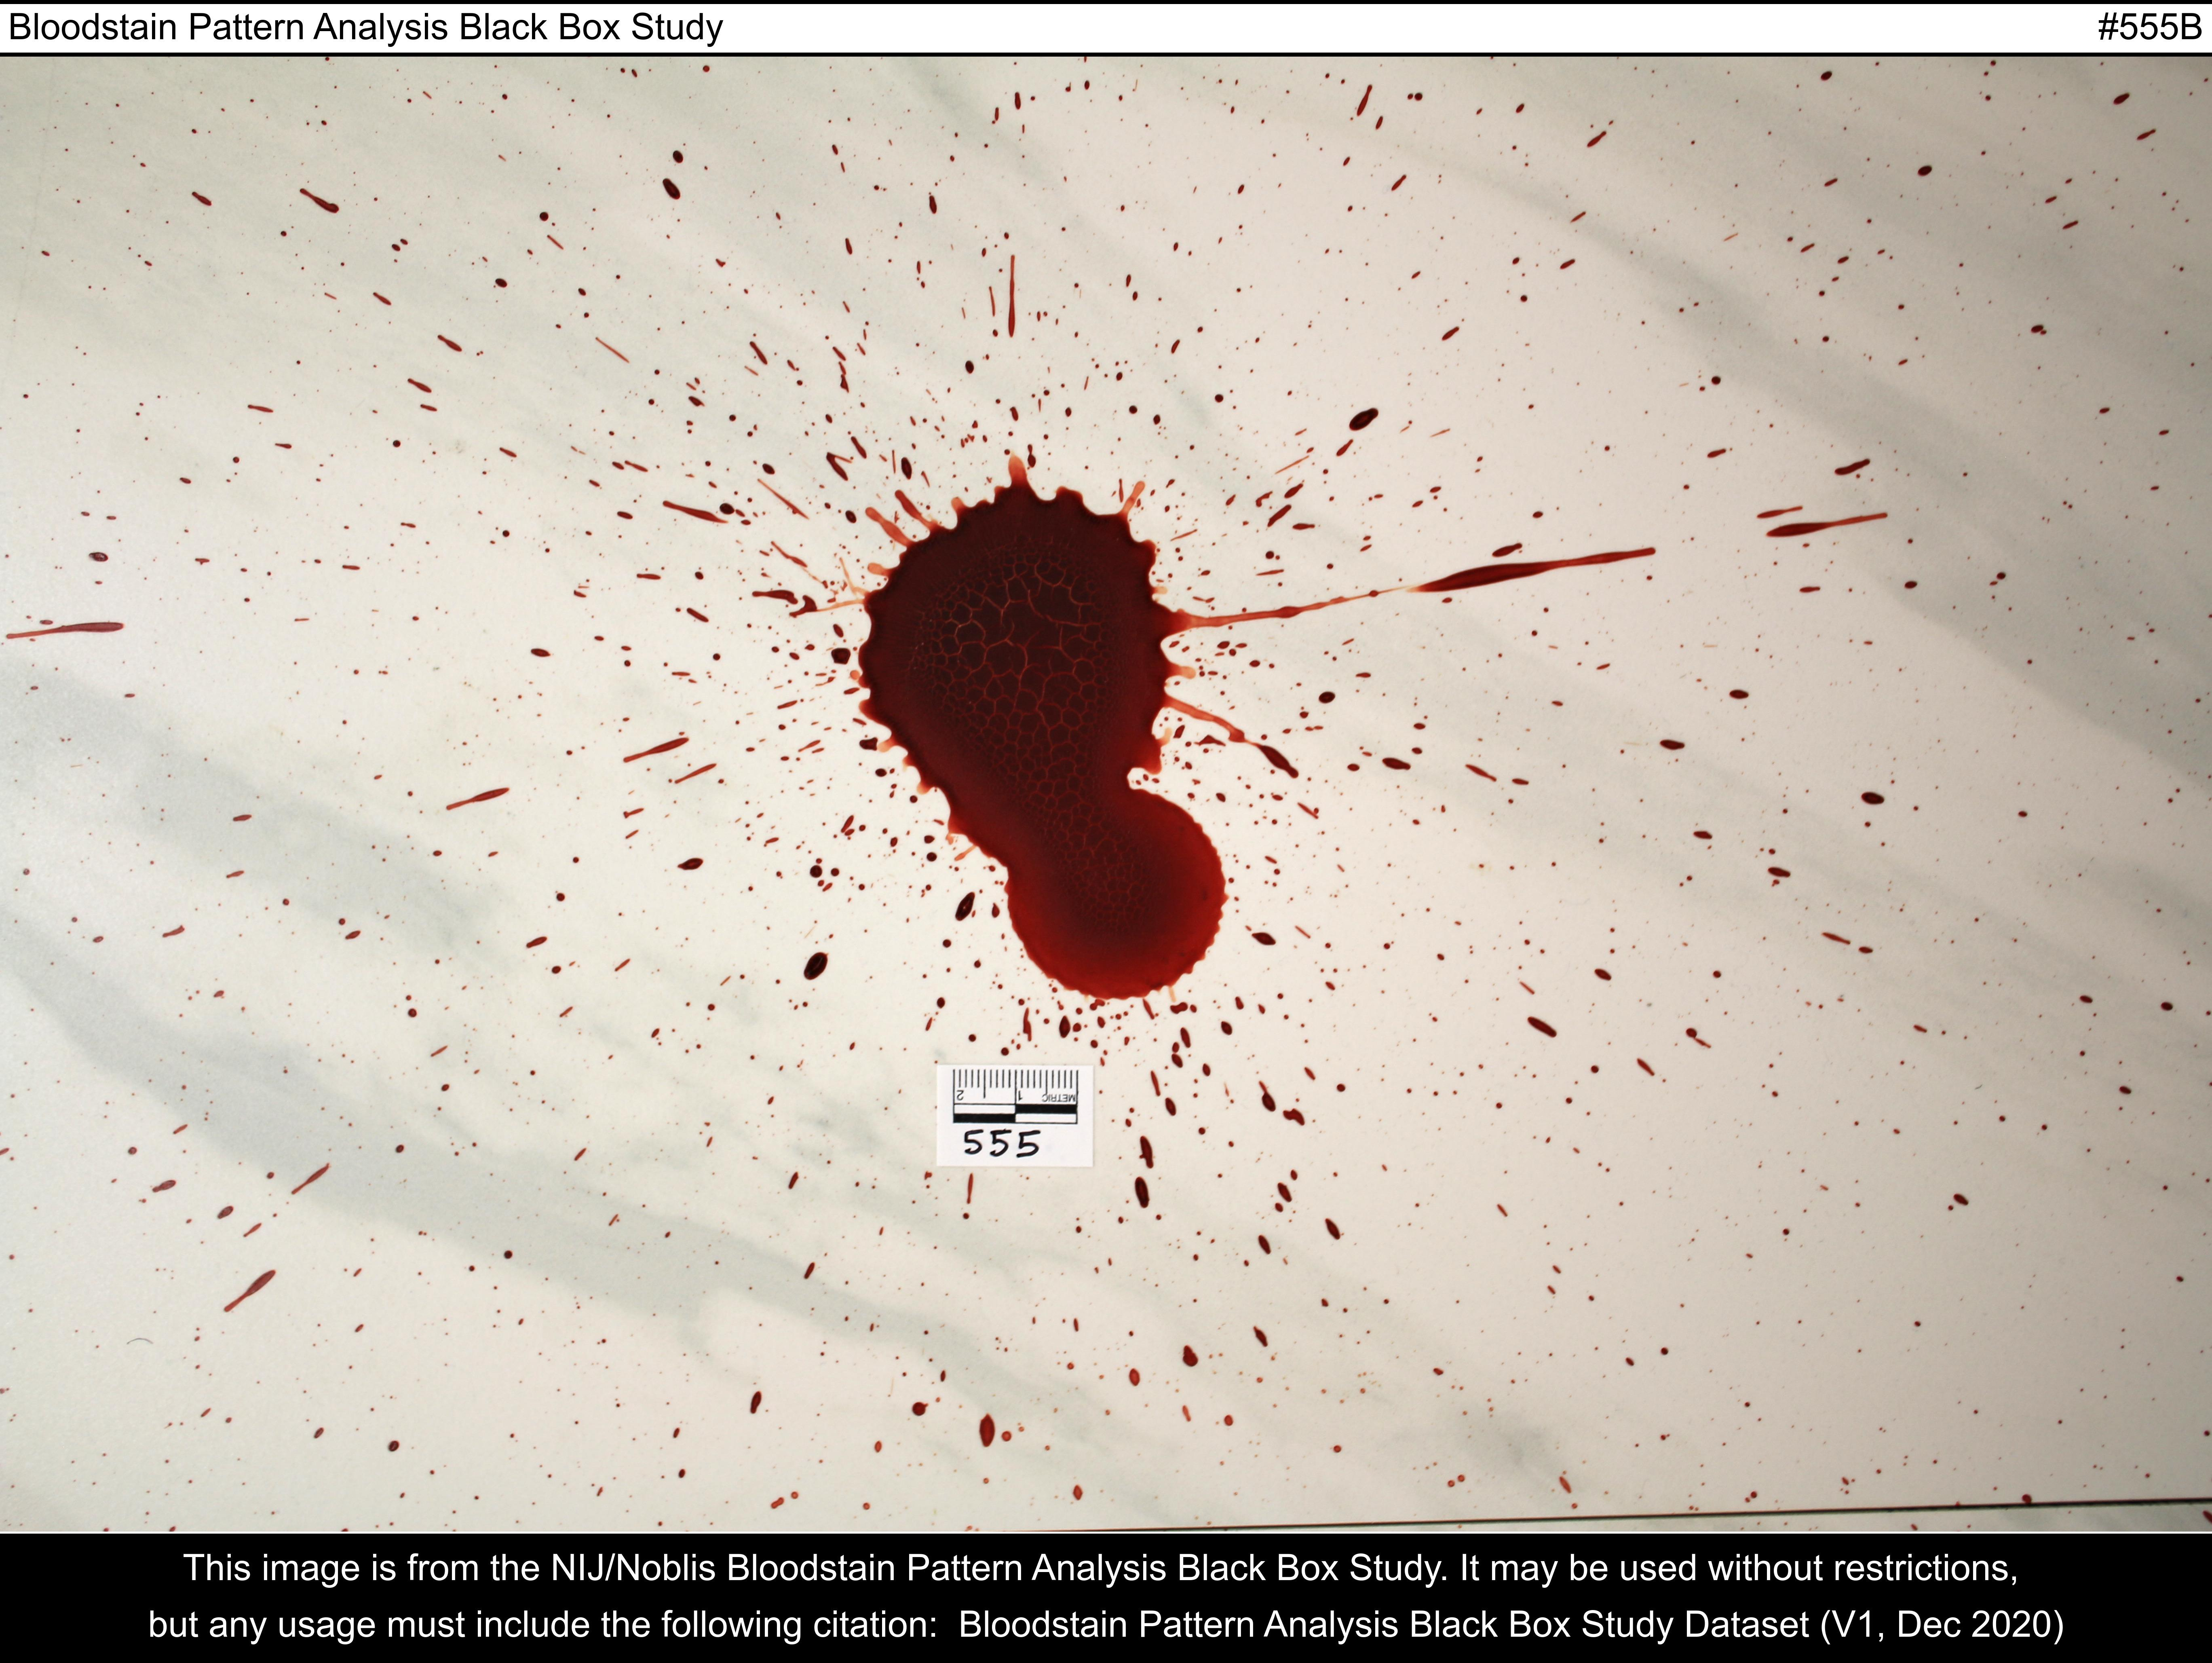Passive: (538, 283, 1632, 1043)
